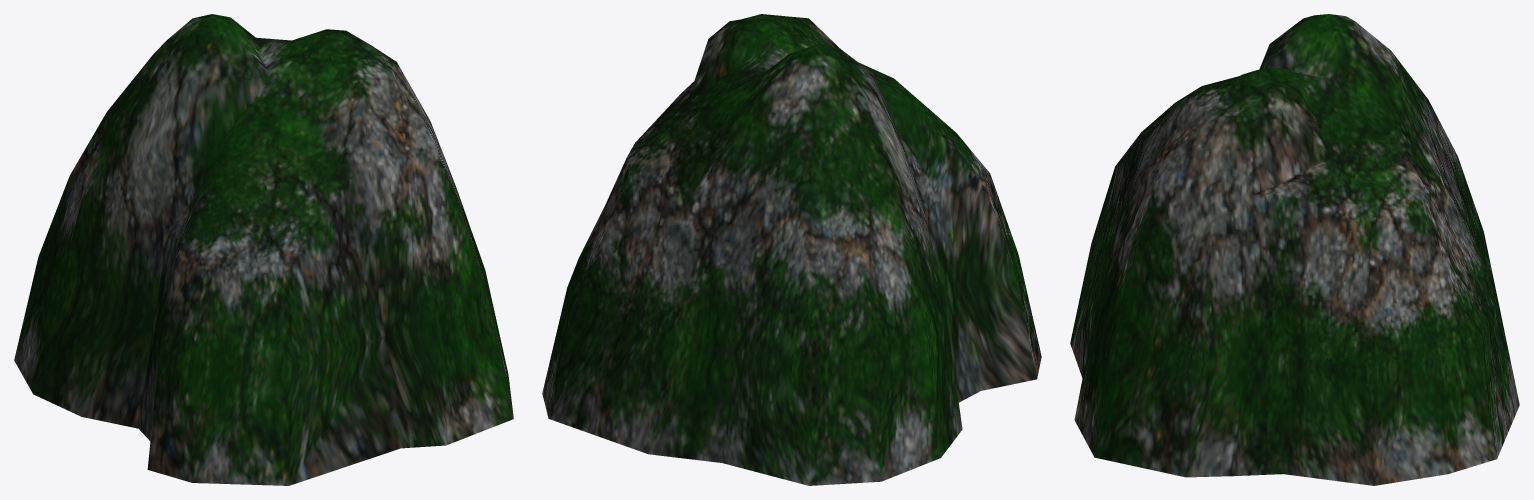
Rendered from big_stone.dae.
The picture shows the model from 3 angles, left to right: view 1: azimuth 30°, elevation 25°; view 2: azimuth 150°, elevation 25°; view 3: azimuth 270°, elevation 25°; orthographic projection.
Parts seen in each view (by area): view 1: Untitled; view 2: Untitled; view 3: Untitled.
Part boxes in pixels (left/top/right/bottom): Untitled: left=14, top=14, right=513, bottom=485; Untitled: left=542, top=14, right=1041, bottom=485; Untitled: left=1070, top=14, right=1519, bottom=485.
Size of the model in its own units: 6.45 by 6.47 by 5.63.
Materials: 1 (1 with a texture image).
